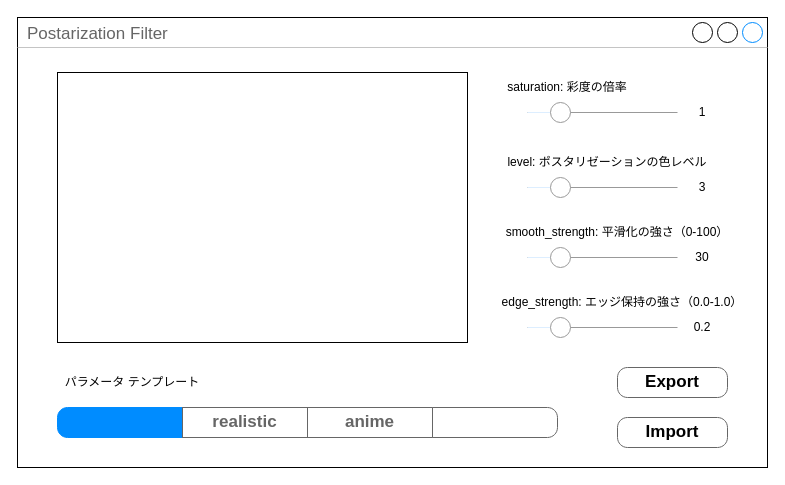
This 785x485 diagram has some shape labels left out. Each missing label, with the centre of its shape:
default: [119,422]
monochro: [495,422]
画像: [262,207]
